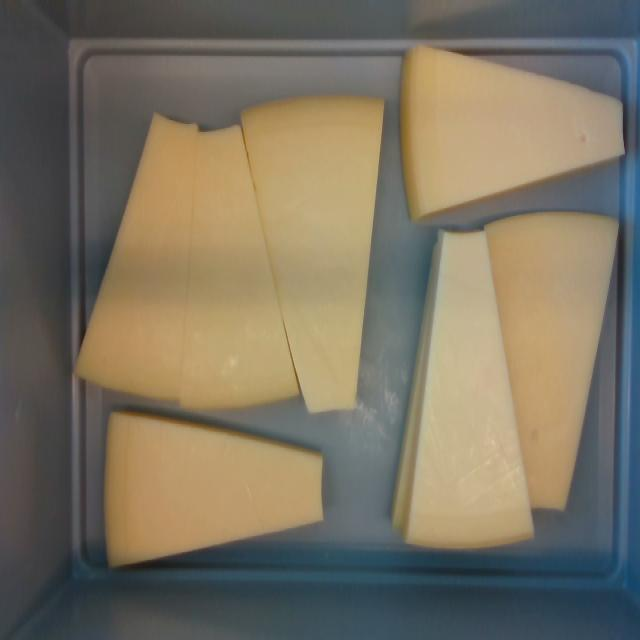Cheese: (241, 95, 385, 417), (407, 229, 536, 549), (485, 212, 620, 510), (409, 43, 625, 219), (74, 111, 194, 397), (182, 126, 301, 408), (105, 417, 328, 564)
